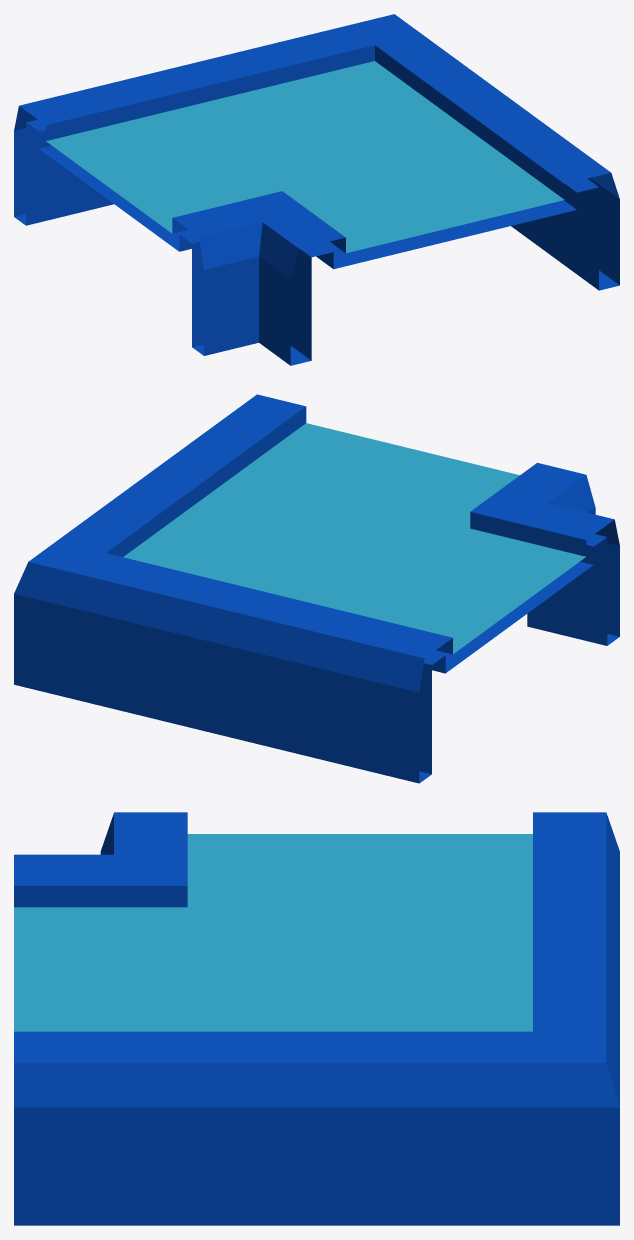
Rendered from Aqua04.fbx.
3 renders of one model, top to bottom at view 1: azimuth 30°, elevation 25°; view 2: azimuth 150°, elevation 25°; view 3: azimuth 270°, elevation 25°, orthographic. The views are drawn at different scales.
Parts seen in each view (by area): view 1: Aqua04; view 2: Aqua04; view 3: Aqua04.
Boxes of the visible parts, left/top/right/bottom form: Aqua04: left=14, top=14, right=619, bottom=365; Aqua04: left=14, top=394, right=619, bottom=783; Aqua04: left=14, top=812, right=619, bottom=1225.
Size of the model in its own units: 700 by 200 by 700.
